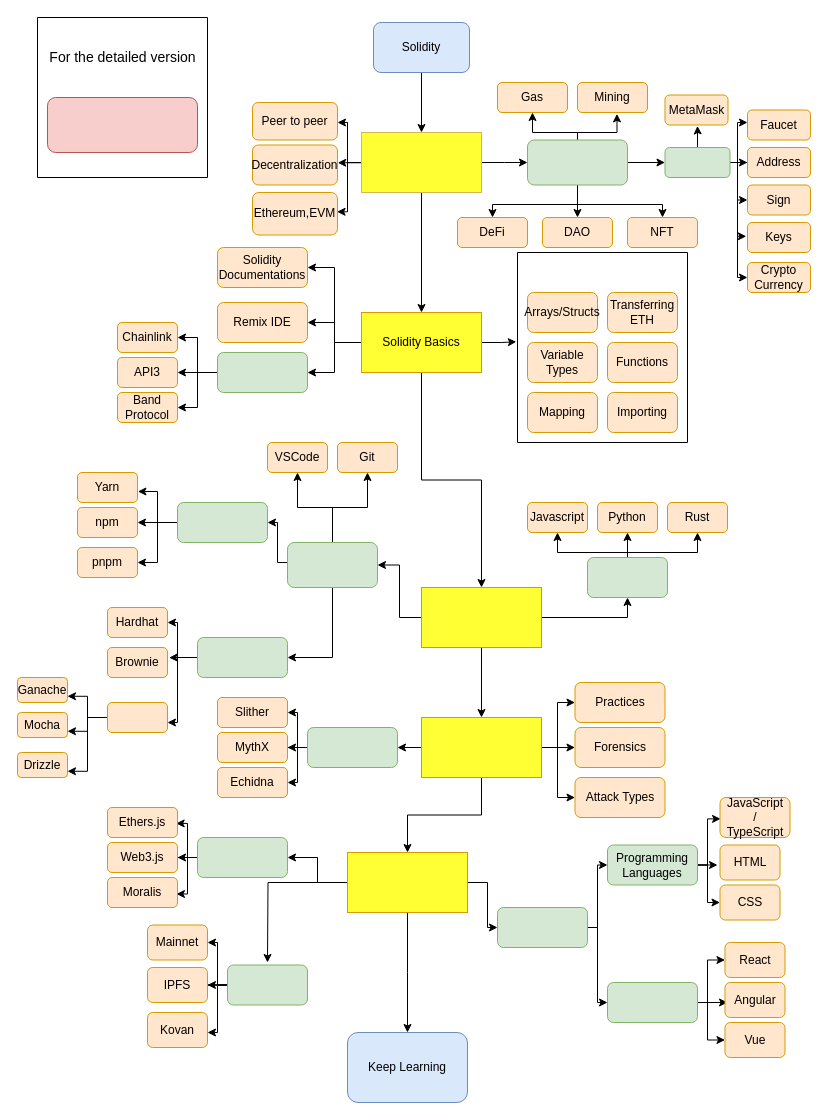
The diagram is 828 pixels wide and 1120 high, and some of its shapes have lost their labels. The shapes that lost their labels are listed below. From the top down, each one's centre as x and y in pixels, then its label:
the point at 122,124: medium.com/@CagatayAkkas
the point at 421,162: Fundementals
the point at 577,162: Blockchain
the point at 697,162: Wallets
the point at 602,347: Coding Basics
the point at 262,372: Oracles
the point at 222,522: Packet Managers
the point at 332,565: Building Tools
the point at 627,577: Programming Languaes
the point at 481,617: Smart Contracts
the point at 242,657: Frameworks
the point at 137,717: Truffle
the point at 352,747: Security Tools
the point at 481,747: Security
the point at 242,857: Libraries
the point at 407,882: DApps
the point at 542,927: Frontend
the point at 267,984: Infura
the point at 652,1002: Frontend Frameworks
